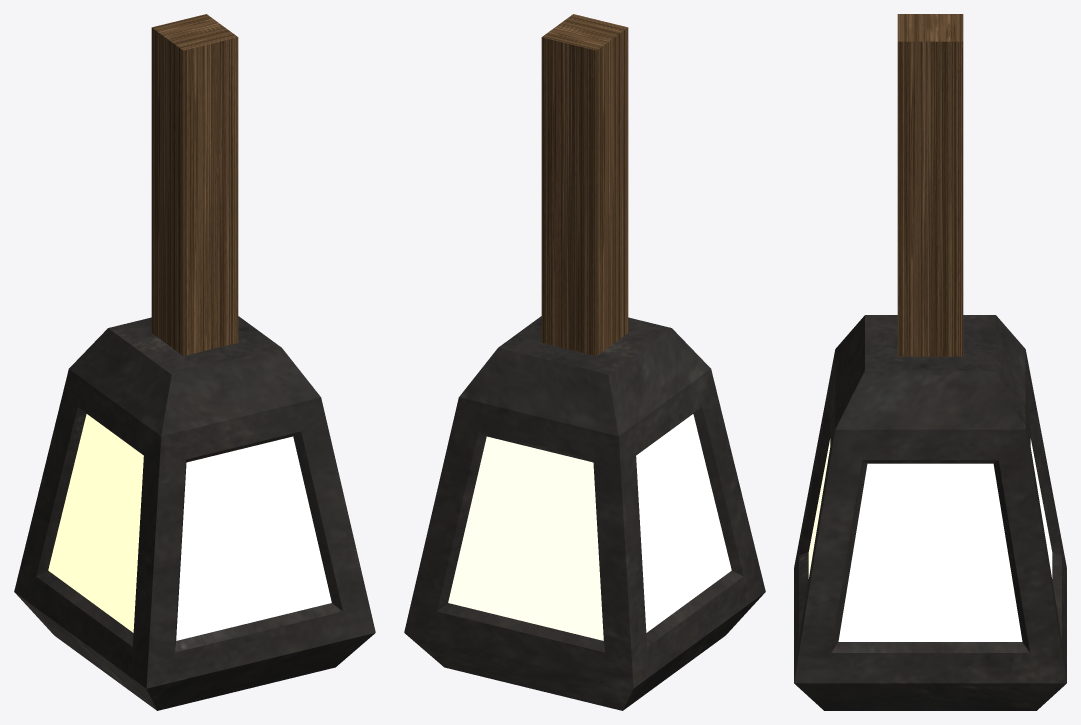
Rendered from mine_lamp_hanging.glb.
3 views of the same model, side by side, from view 1: azimuth 30°, elevation 25°; view 2: azimuth 150°, elevation 25°; view 3: azimuth 270°, elevation 25° (orthographic). The views are drawn at different scales.
Visible parts, largest first — view 1: Lamp_02; view 2: Lamp_02; view 3: Lamp_02.
Boxes of the visible parts, x1,y1,x2,y2 form: Lamp_02: [14, 14, 375, 710]; Lamp_02: [404, 14, 765, 710]; Lamp_02: [794, 14, 1066, 710].
Bounding box in the file's own units: 1.43 × 3.7 × 1.43.
3 materials, 2 textured.
